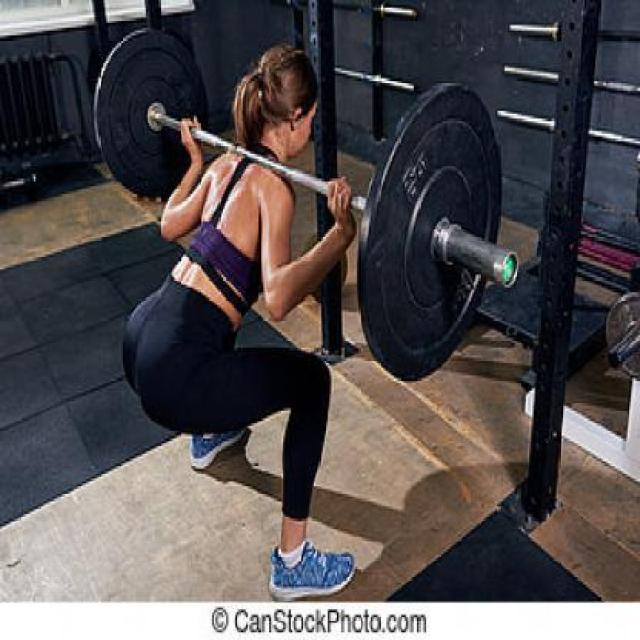barbell: (352, 82, 525, 390)
